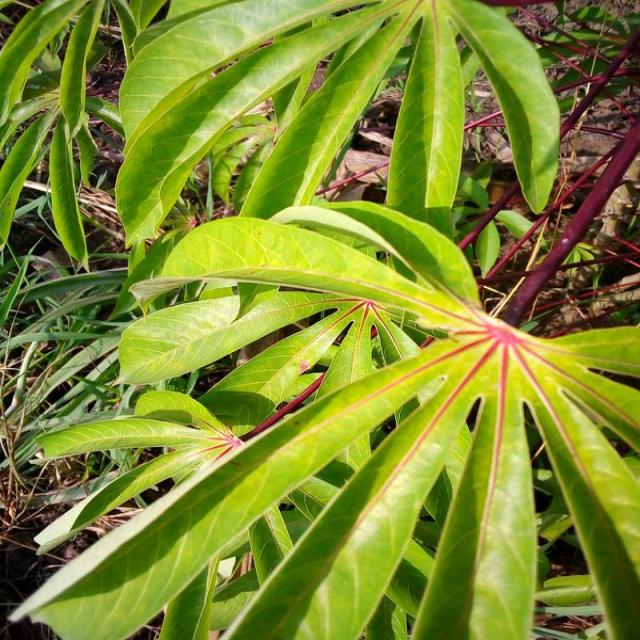cassava leaf: (5, 1, 638, 638)
